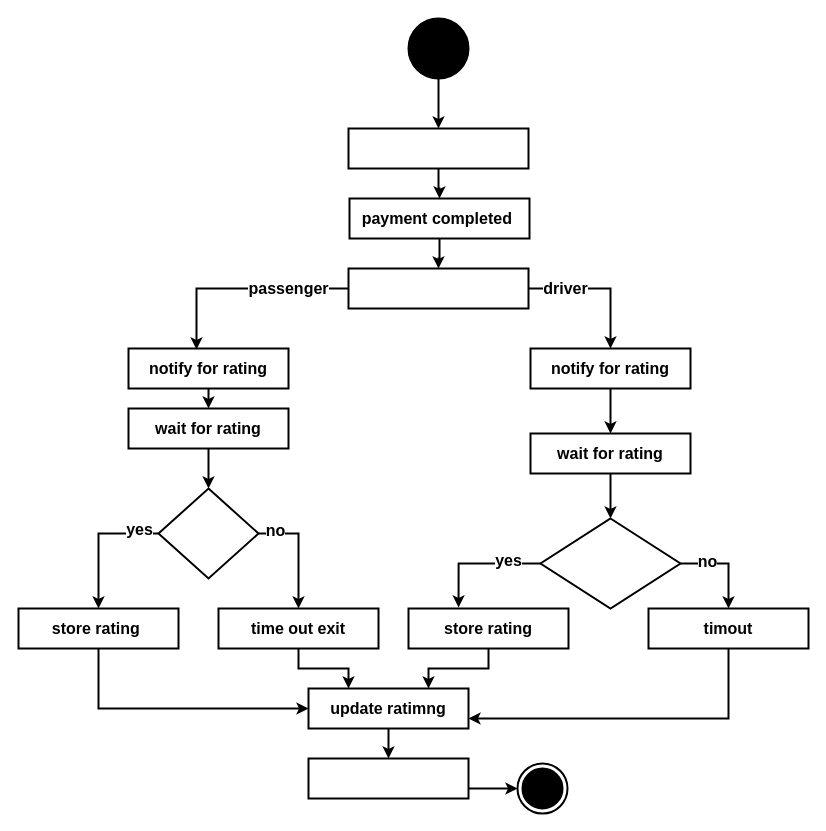
The diagram is 826 pixels wide and 831 high, and some of its shapes have lost their labels. The centre of each missing label's shape, as x and y in pixels:
drivcer rated: [208,533]
passeneger rated: [610,563]
passenger mark reached: [438,148]
send to anylytics: [388,778]
show rating dialoge: [438,288]
